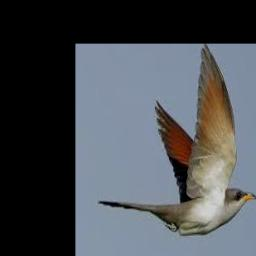Cuckoo: (99, 44, 256, 234)
